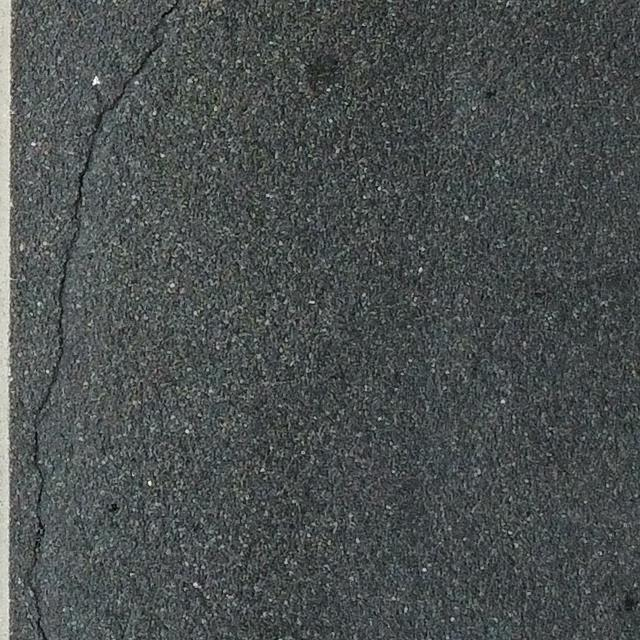LongitudinalCrack: (31, 1, 181, 638)
